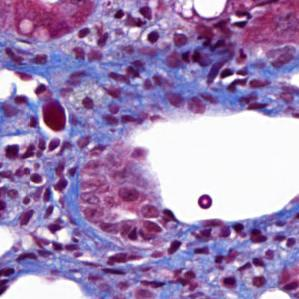inflammation: (219, 253, 269, 292), (26, 170, 72, 208), (37, 94, 73, 137), (138, 20, 165, 49)
